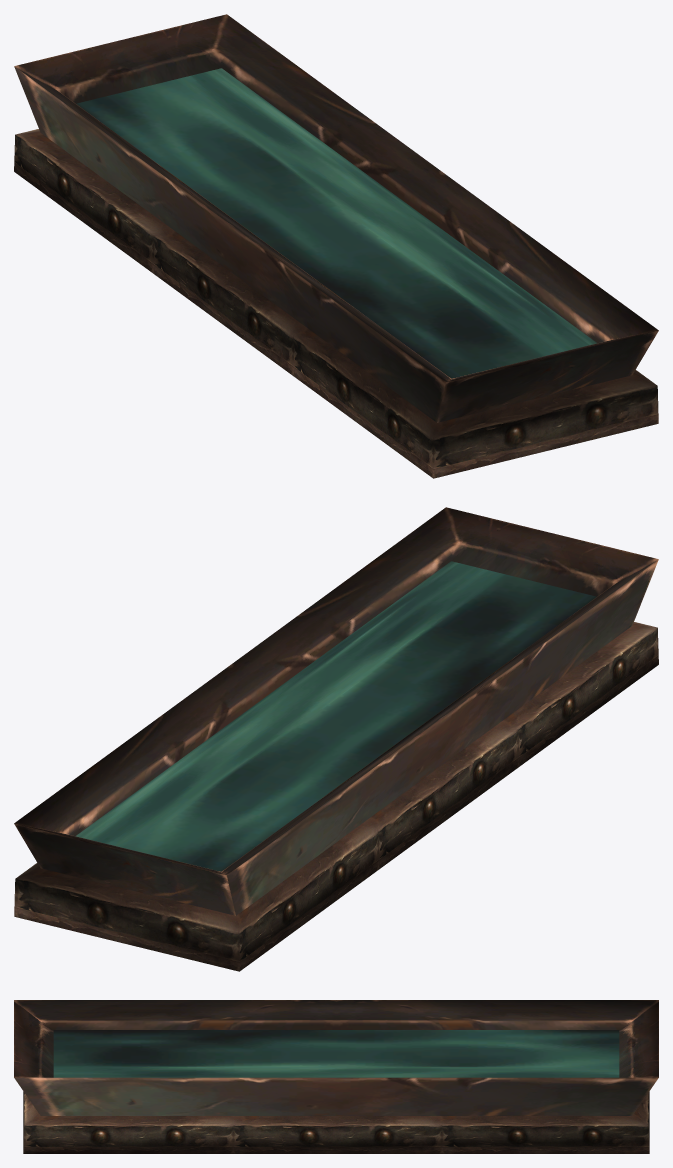
File: vr_trough.obj
3 views of the same model, one above another, from view 1: azimuth 30°, elevation 25°; view 2: azimuth 150°, elevation 25°; view 3: azimuth 270°, elevation 25° (orthographic). The views are drawn at different scales.
Parts seen in each view (by area): view 1: VR_TROUGH0, VR_TROUGH3; view 2: VR_TROUGH0, VR_TROUGH3; view 3: VR_TROUGH0, VR_TROUGH3.
Boxes of the visible parts, x1,y1,x2,y2 form: VR_TROUGH0: [14, 14, 658, 478]; VR_TROUGH3: [76, 68, 596, 378]; VR_TROUGH0: [14, 507, 658, 971]; VR_TROUGH3: [76, 561, 596, 871]; VR_TROUGH0: [14, 1000, 658, 1153]; VR_TROUGH3: [53, 1030, 619, 1077].
Size of the model in its own units: 2.06 by 0.867 by 6.84.
2 materials, 2 textured.
